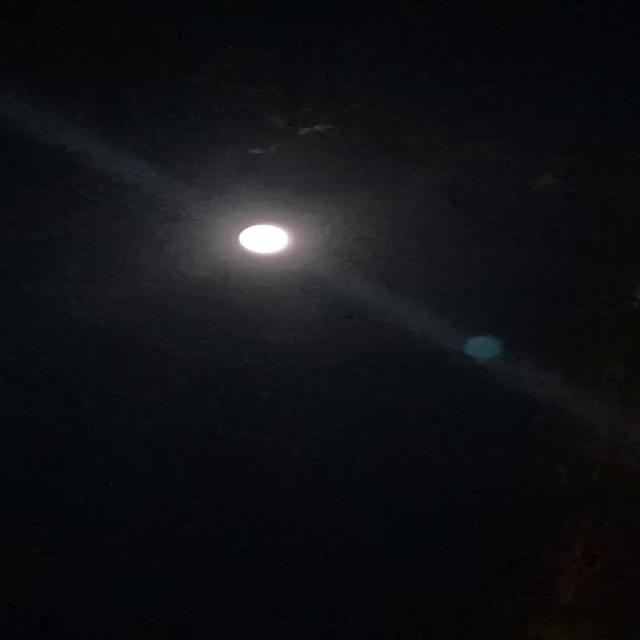moon: (193, 202, 319, 273)
